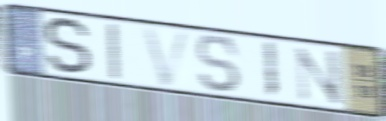I: (261, 39, 280, 101), (104, 21, 123, 82)
N: (294, 45, 346, 107)
S: (41, 15, 95, 77), (194, 33, 243, 95)
V: (140, 25, 195, 89)
